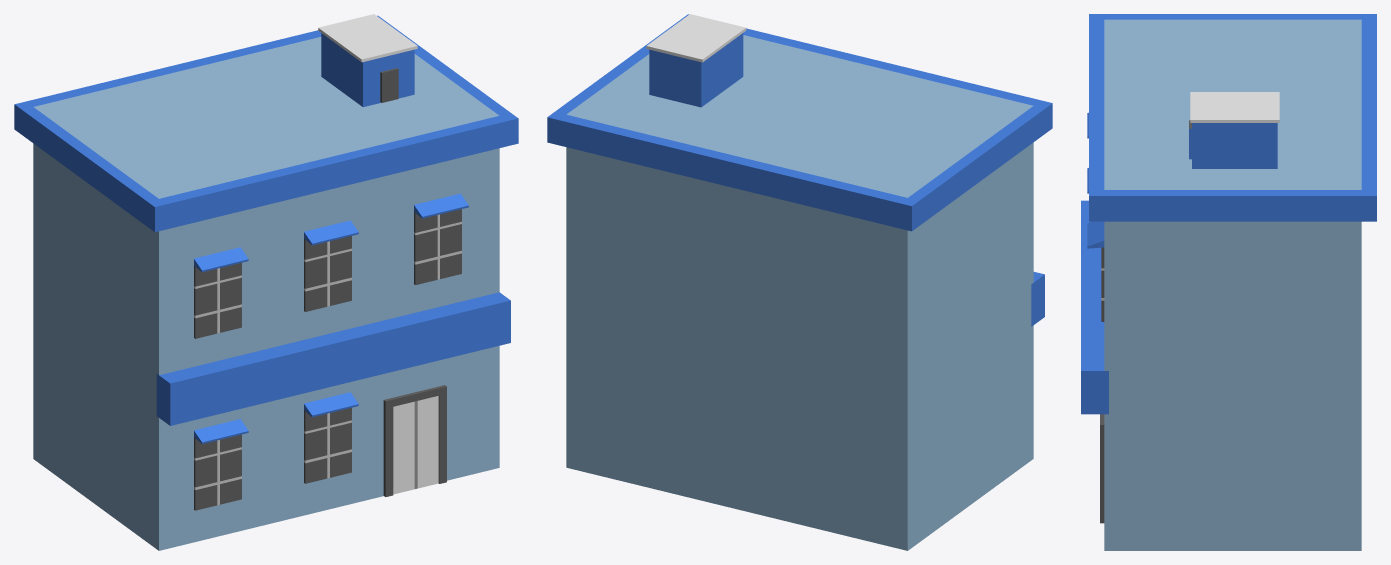
Rendered from Building_1.FBX.
3 views of the same model, side by side, from view 1: azimuth 30°, elevation 25°; view 2: azimuth 150°, elevation 25°; view 3: azimuth 270°, elevation 25° (orthographic). The views are drawn at different scales.
Visible parts, largest first — view 1: Building 01; view 2: Building 01; view 3: Building 01.
Boxes of the visible parts, x1=… form: Building 01: x1=14, y1=14, x2=518, y2=550; Building 01: x1=547, y1=14, x2=1052, y2=550; Building 01: x1=1081, y1=14, x2=1376, y2=550.
Size of the model in its own units: 9.26 by 9.75 by 6.36.
Materials: 1 (1 with a texture image).
